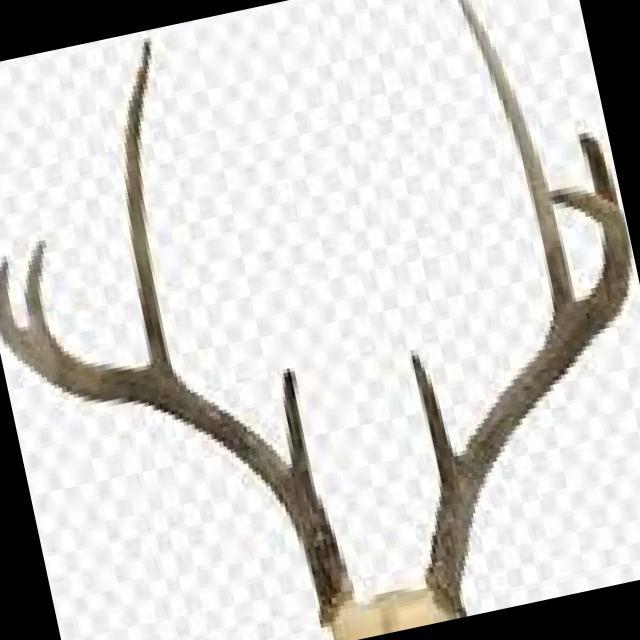L-F: (425, 185, 634, 616)
L-G2: (456, 0, 576, 317)
L-G5: (409, 349, 458, 485)
R-F: (0, 256, 354, 627)
R-G1: (280, 366, 316, 495)
R-G2: (122, 34, 175, 374)
R-G3: (23, 237, 55, 339)
